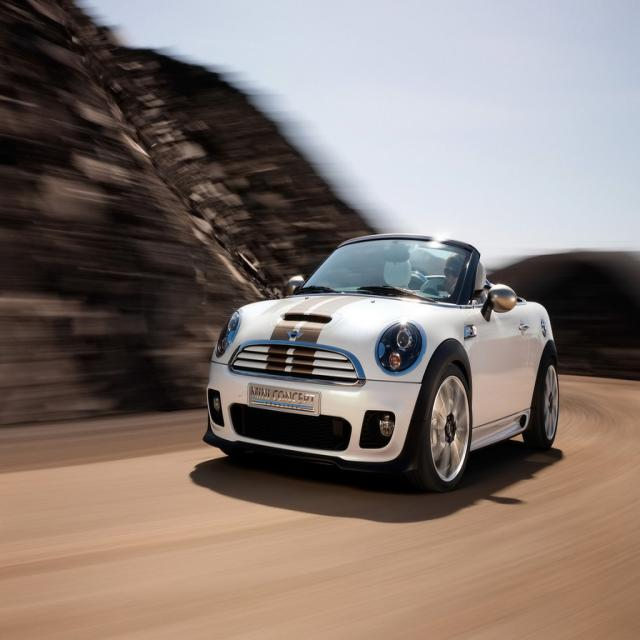car: (199, 232, 556, 489)
